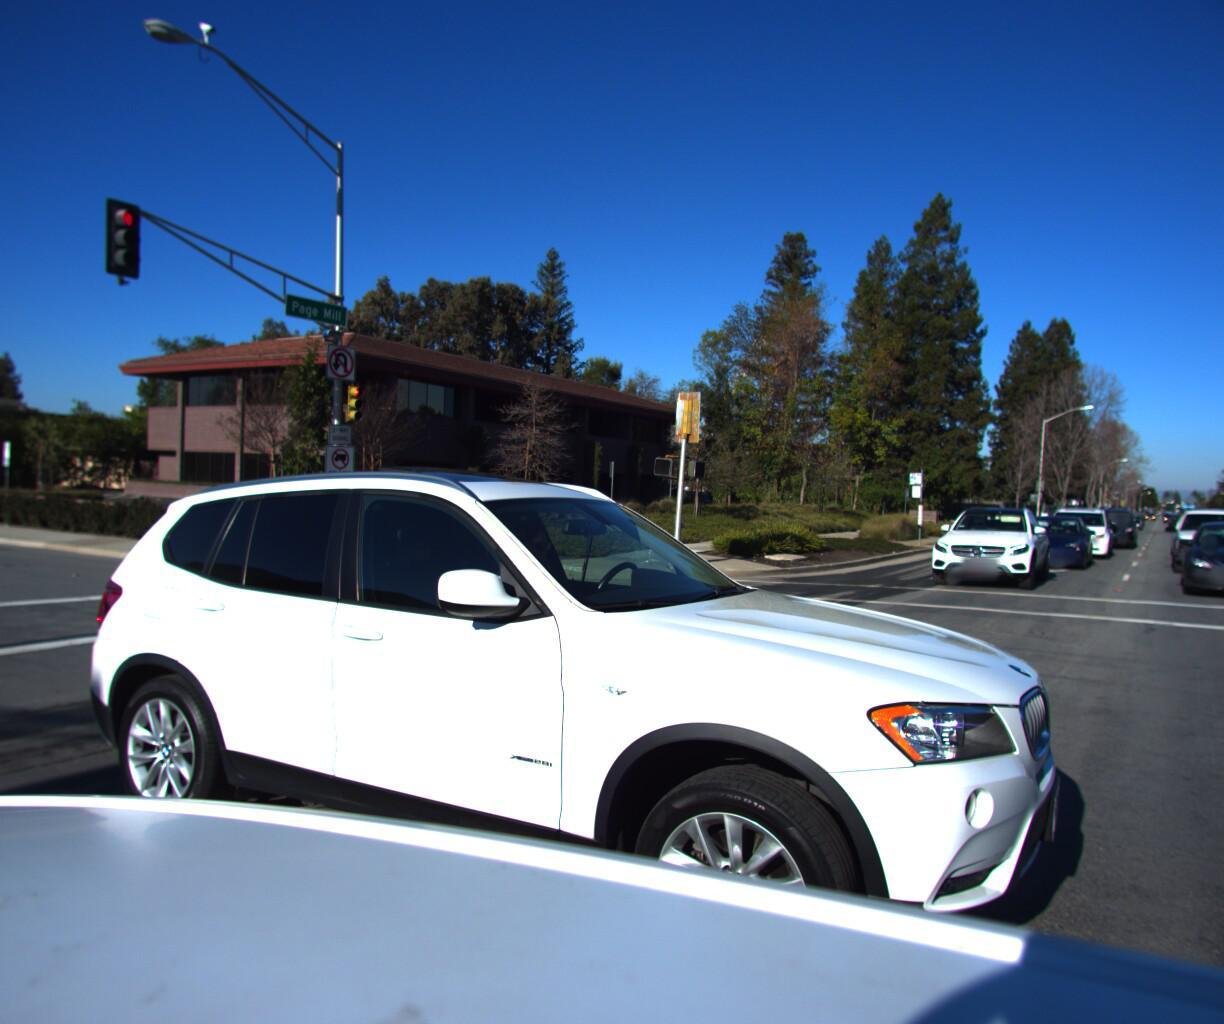car: (62, 446, 1120, 1024), (910, 491, 1054, 592), (999, 504, 1092, 570), (1164, 508, 1224, 606), (1162, 492, 1224, 576), (1033, 498, 1111, 560), (1167, 496, 1224, 559), (1075, 499, 1137, 548)
